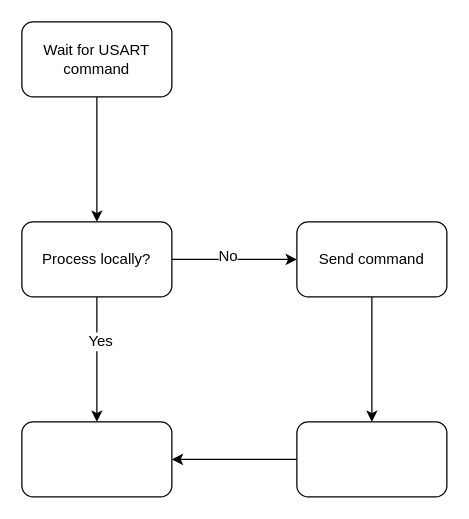
Some shapes in this 469 by 519 pixel diagram are drawn without their labels. The shapes that lost their labels are listed below. From the top down, each one's centre as x and y in pixels, then its label:
At (x=96, y=459): "Send Response".
At (x=371, y=459): "Wait for response".
